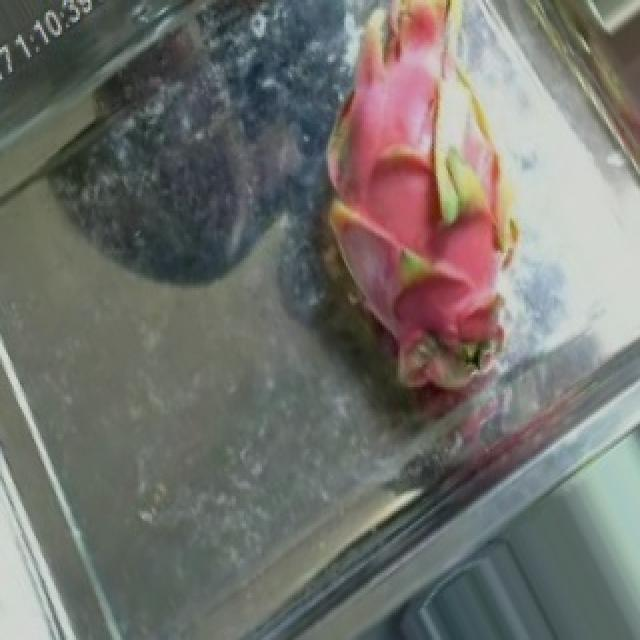fruit: (232, 3, 640, 429)
